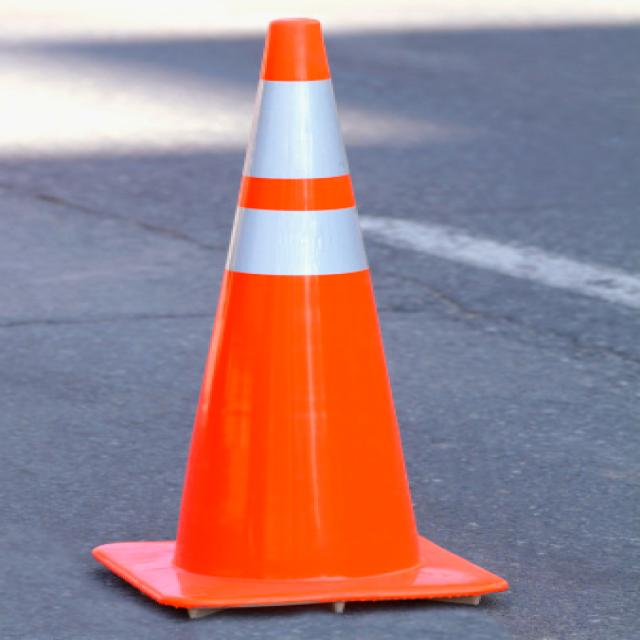cone: (92, 17, 508, 619)
